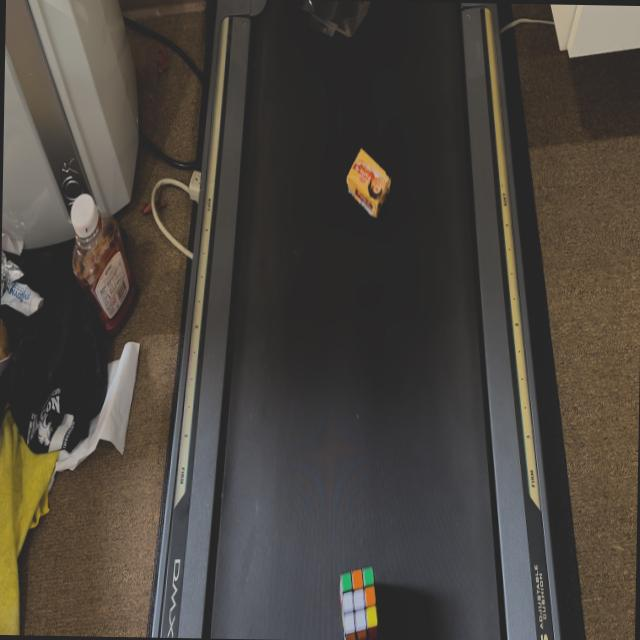Trash: (337, 564, 380, 640), (346, 150, 391, 220)
